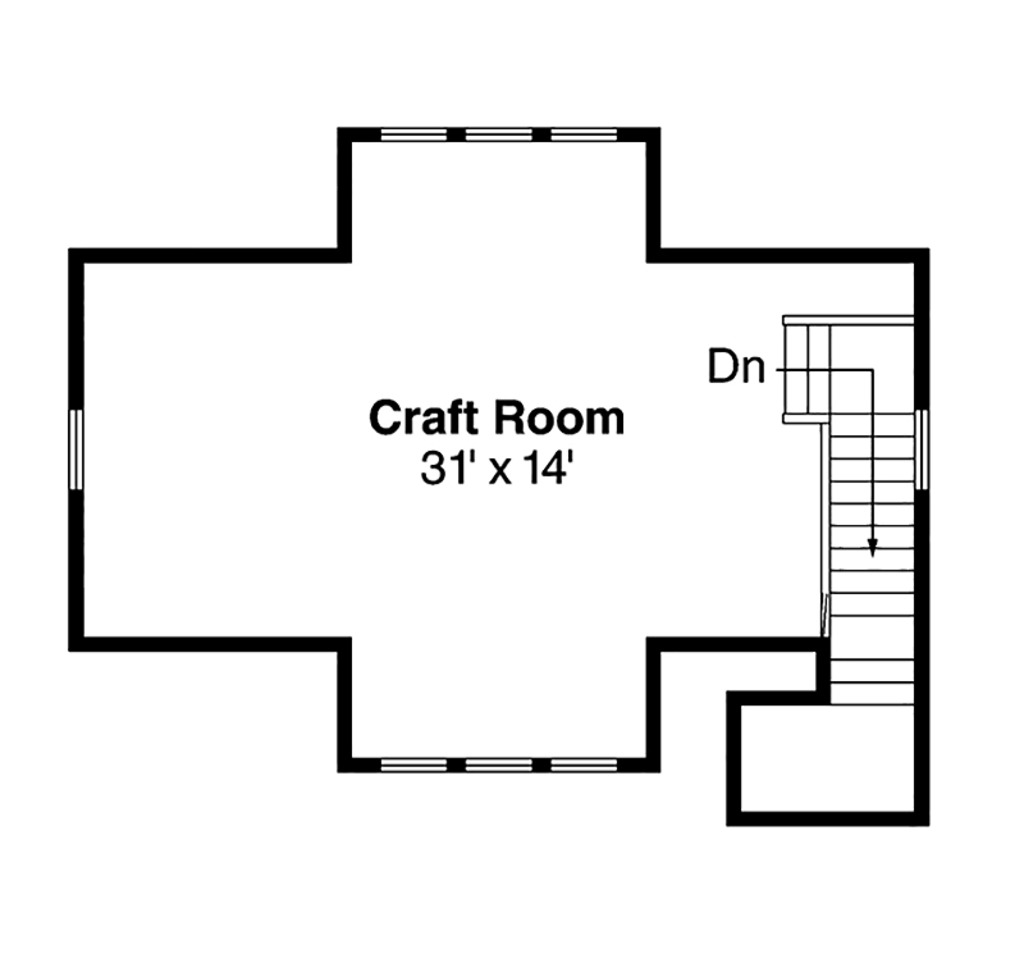stairs: (772, 309, 914, 707)
window: (548, 746, 626, 775), (547, 119, 627, 146), (382, 749, 460, 776), (375, 119, 454, 145), (57, 409, 81, 488), (464, 121, 539, 145), (469, 752, 529, 778)
